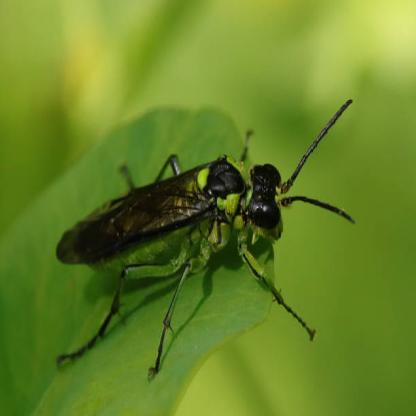sawfly: (54, 92, 357, 376)
